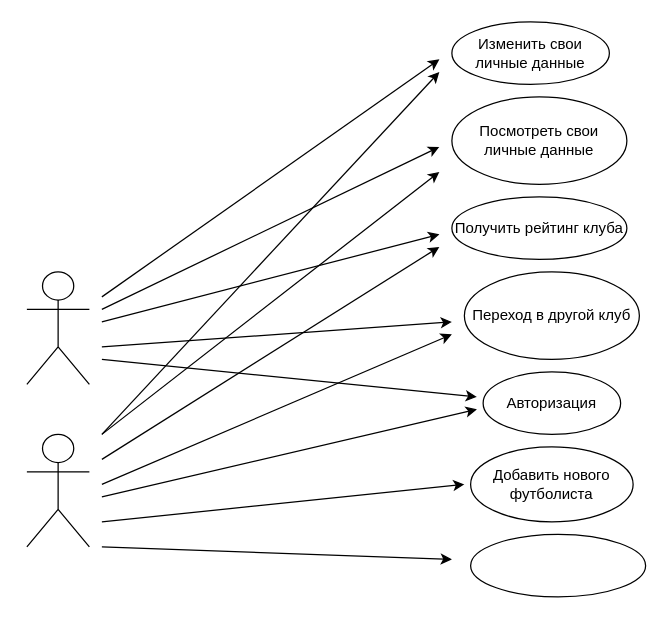
Image size: 668x619. Some labels were removed from this diagram. Each missing label, with the centre of its shape:
Тренер: pixel 57 490
Удалить футболиста: pixel 557 565
Футболист: pixel 57 327
